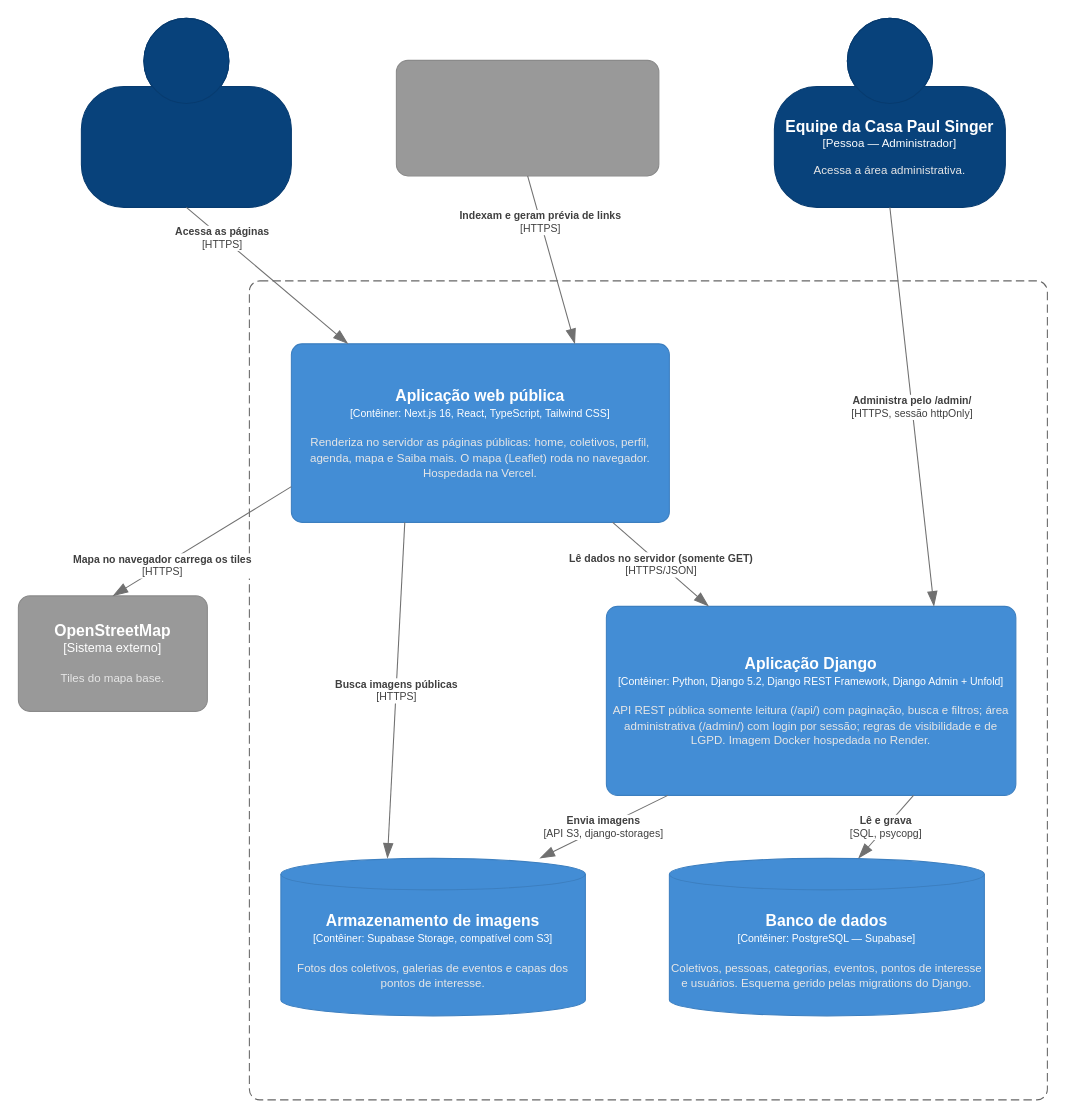
Some shapes in this 1066 by 1118 pixel diagram are drawn without their labels. The box of each missing label's shape, as (x1, y1, x2, y2) in pixels:
Buscadores e redes sociais [Sistemas externos] Google, WhatsApp e afins.: (395, 59, 659, 176)
Plataforma Ecosol [Sistema de software]: (248, 280, 1047, 1100)
Público geral [Pessoa] Navegador do computador ou celular.: (80, 17, 291, 207)
